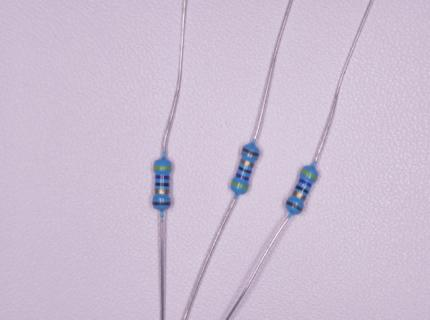Gold band: (240, 158, 254, 168), (291, 191, 306, 200), (155, 189, 169, 194)
Violet band: (299, 178, 312, 188), (236, 172, 249, 180), (155, 175, 170, 179)
Yellow band: (300, 169, 317, 180), (231, 181, 248, 190), (154, 166, 171, 170)
